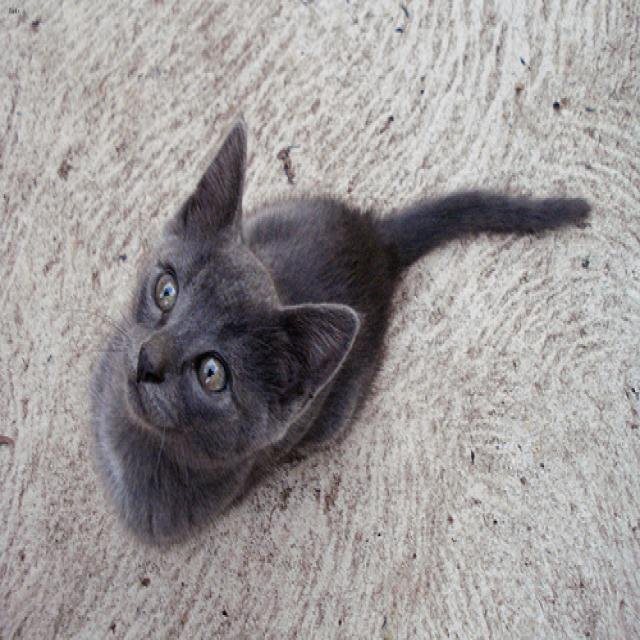Russian_Blue: (123, 113, 357, 448)
